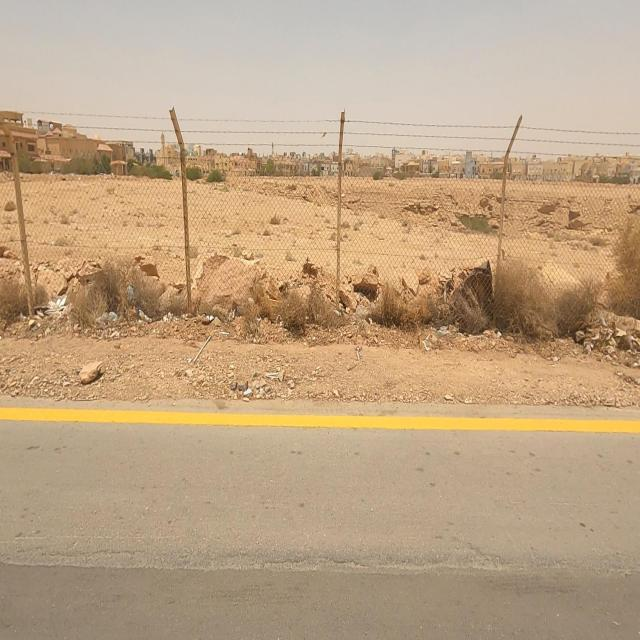debris: (60, 235, 192, 374), (9, 251, 108, 364), (169, 263, 250, 356), (410, 294, 478, 359)
